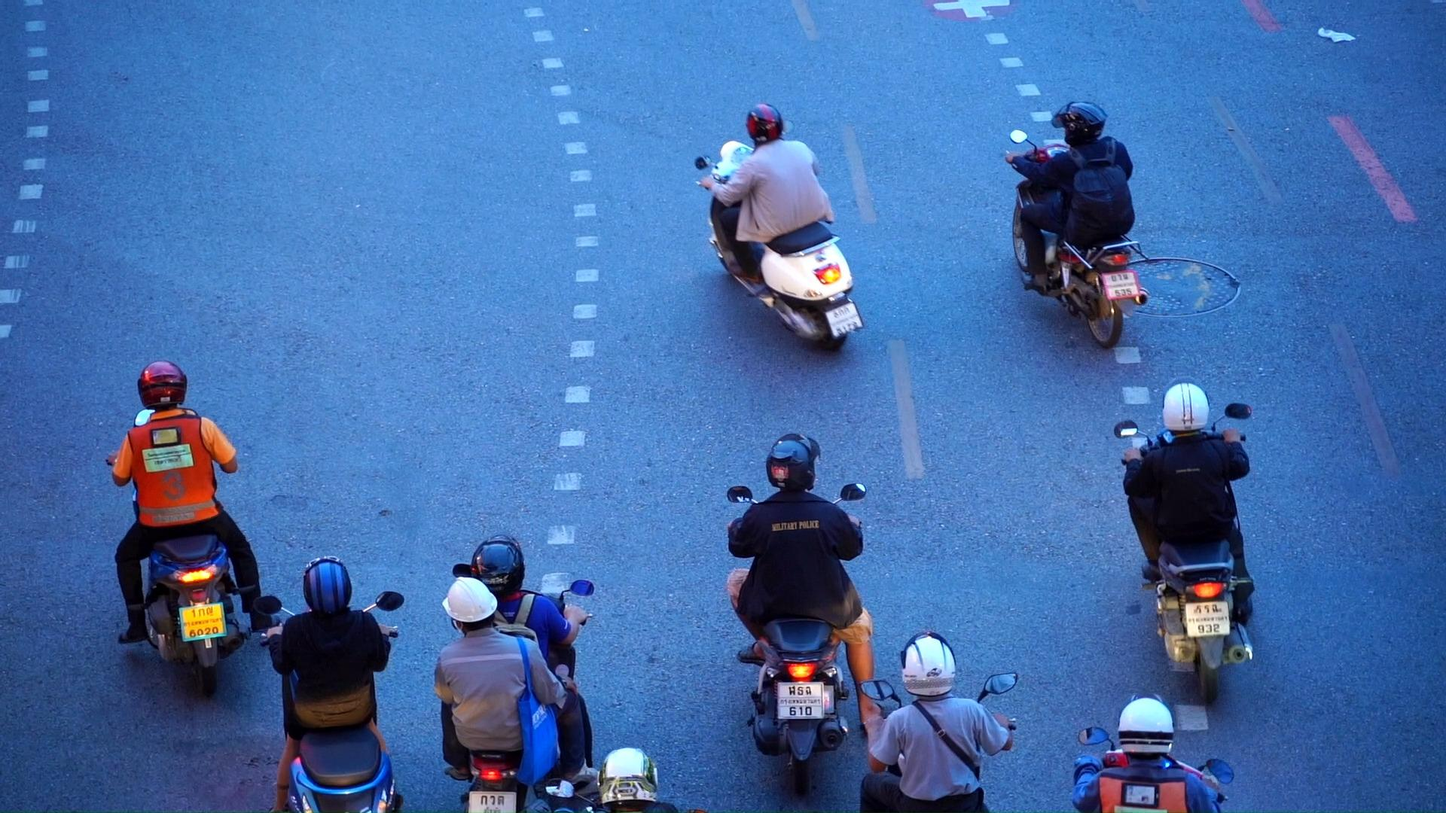driver: (725, 433, 900, 796), (106, 360, 283, 697), (1113, 375, 1255, 704), (435, 533, 601, 813), (695, 103, 865, 351), (253, 555, 405, 813), (1004, 101, 1152, 351), (860, 630, 1017, 813), (1072, 692, 1234, 813)
helmet: (597, 747, 659, 812), (1117, 693, 1176, 760), (900, 631, 956, 697), (470, 534, 526, 597), (766, 433, 821, 493), (442, 576, 497, 634), (303, 556, 352, 617), (1163, 375, 1210, 437), (1051, 101, 1108, 148), (137, 360, 187, 410), (746, 103, 783, 145)
